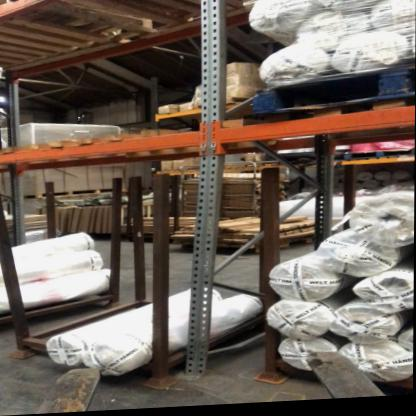vertical_damage: (179, 344, 215, 388)
